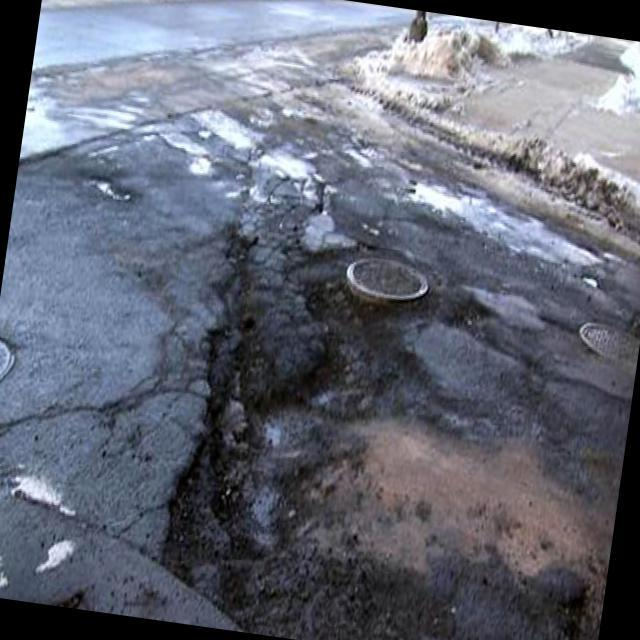Pothole: (142, 232, 445, 640), (251, 138, 326, 204), (401, 167, 468, 230), (85, 162, 139, 228)
